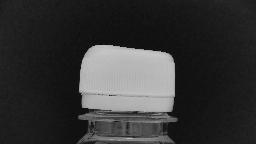Broken Cap: (77, 42, 177, 114)
